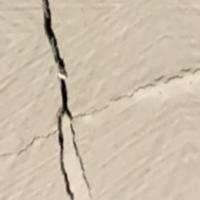crack: (19, 0, 100, 199)
